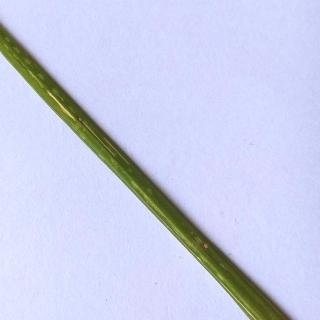Blast: (199, 236, 215, 258), (71, 111, 88, 128)
